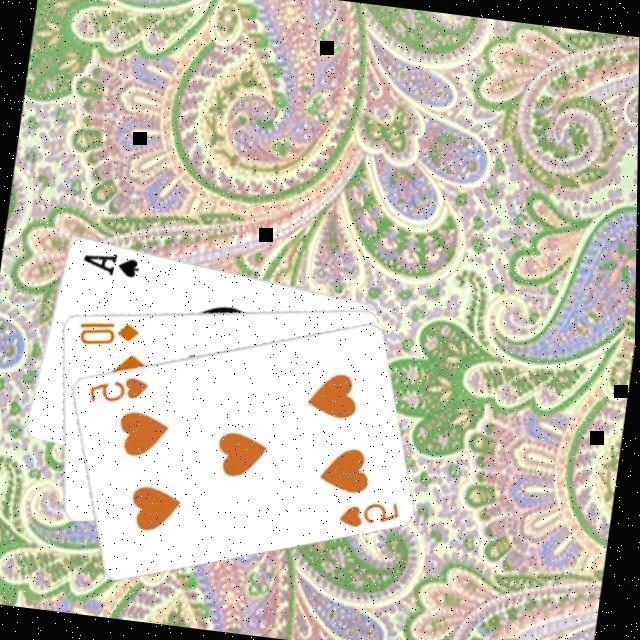10D: (72, 315, 141, 354)
5H: (83, 369, 152, 413), (334, 493, 403, 537)
AS: (77, 248, 142, 283)
